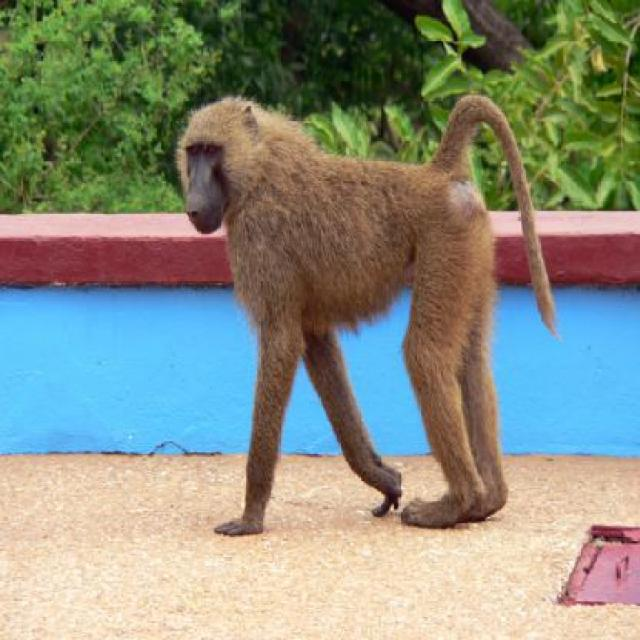Monkey: (175, 97, 560, 537)
